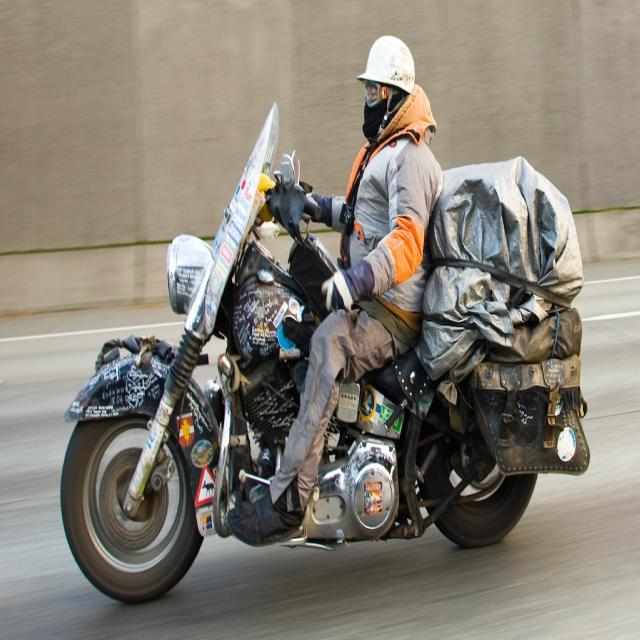bus: (60, 101, 590, 603)
